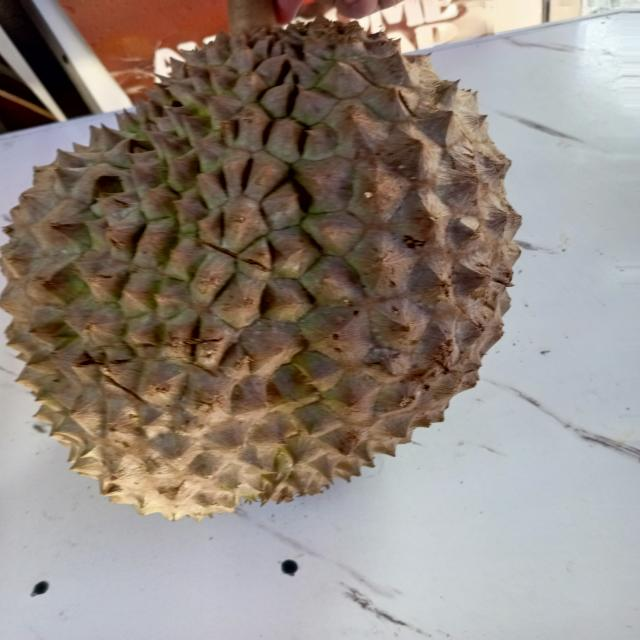mature: (0, 13, 529, 521)
